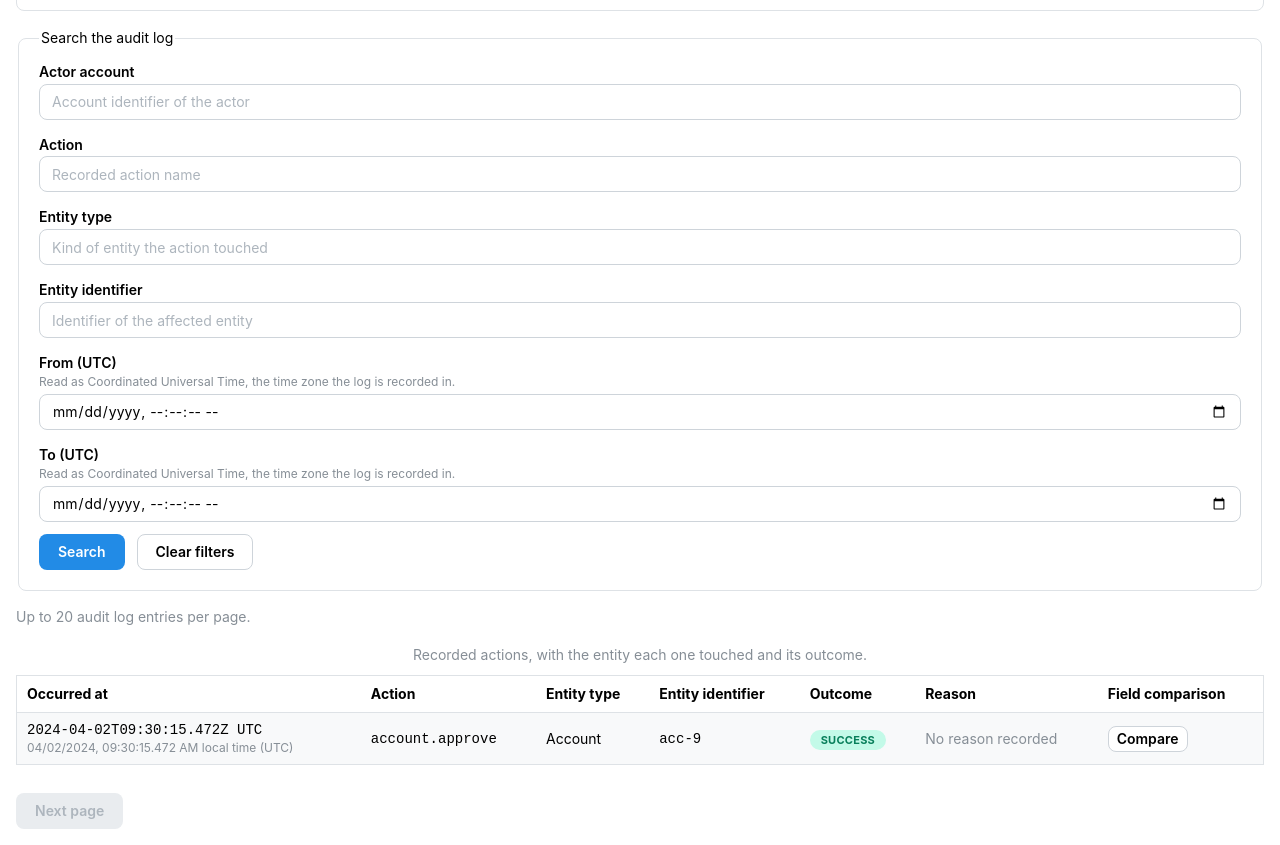
the before/after field comparison (Req 17 AC5) › renders Arabic snapshot values byte-identically
(page scrolled)
Click the button with test id "audit-entry-compare-417": (1148, 739) x1=1108 y1=726 x2=1188 y2=752
(page scrolled)
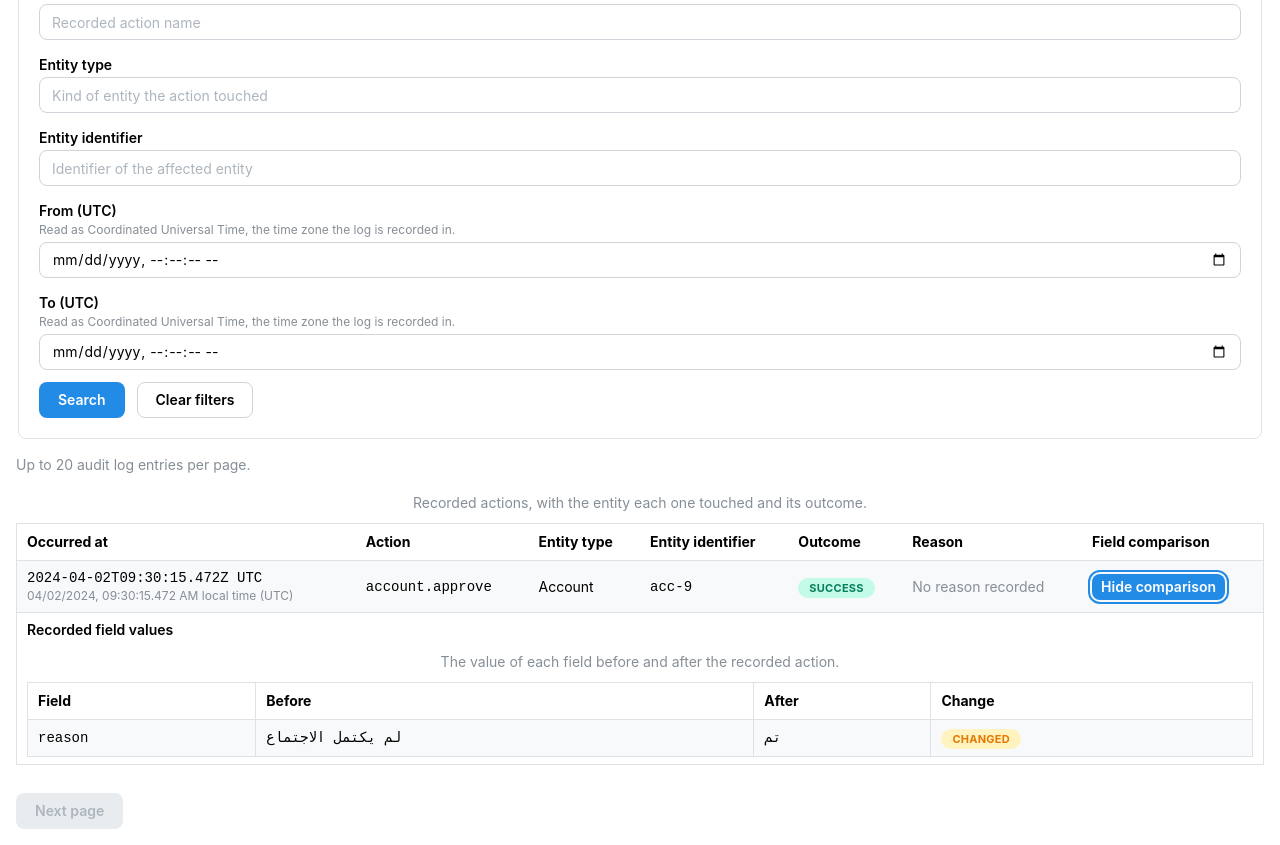
Result: the element with test id "audit-comparison-before-reason" reads "لم يكتمل الاجتماع" at x1=266 y1=730 x2=401 y2=746
